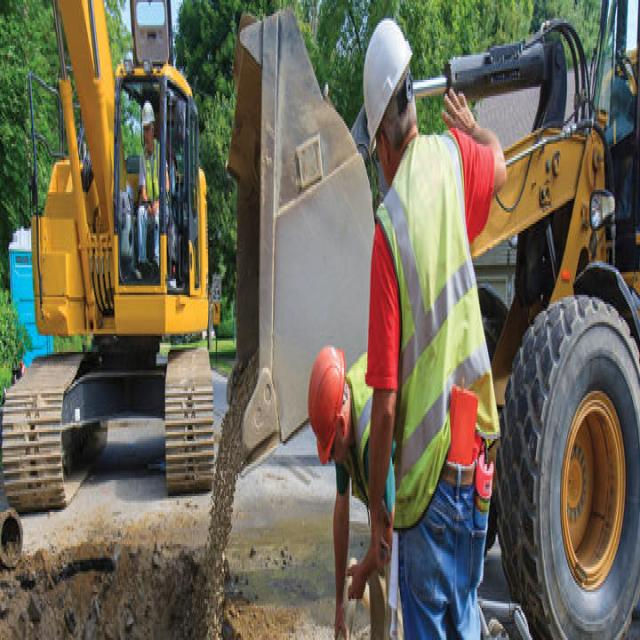Reflective-Jacket: (359, 128, 497, 523), (138, 137, 162, 210)
Safety-Helmet: (360, 14, 415, 144), (305, 338, 346, 469), (142, 96, 156, 128)
